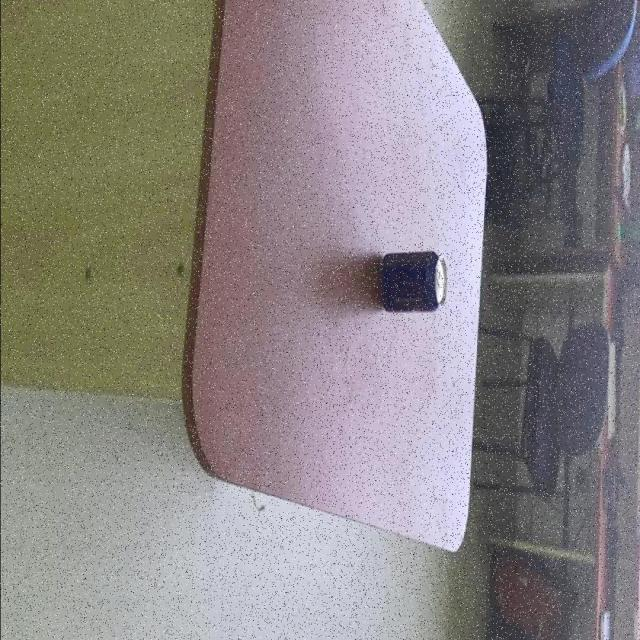Tonic: (381, 252, 448, 316), (618, 220, 640, 243), (626, 110, 640, 133)
